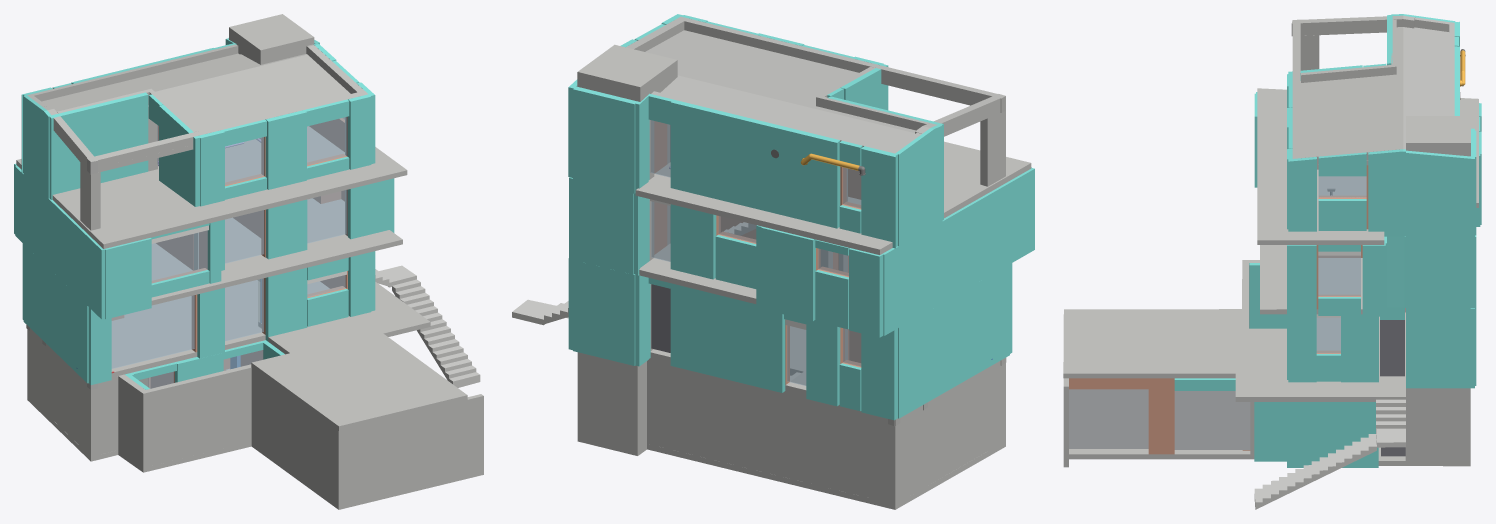
The model's file is HouseEM_AR_ALL.glb.
3 renders of one model, left to right at view 1: azimuth 30°, elevation 25°; view 2: azimuth 150°, elevation 25°; view 3: azimuth 270°, elevation 25°, orthographic. The views are drawn at different scales.
Visible parts, largest first — view 1: AT-SB01, BS-RS01, RF-SLAB, GF-SB01, BS-RCW01, BS-RCW04, F1-SB01, F1-ET06, BS-RCW02, AT-ET07, GF-ET12, GF-EO06 (+44 smaller); view 2: AT-ET11, RF-SLAB, BS-RCW05, F1-ET06, GF-ET12, GF-ET08, AT-SB01, BS-COL07, AT-ET03, GF-ET02, F1-ET14, BS-RCW08 (+45 smaller); view 3: RF-SLAB, BS-RS01, AT-SB01, GF-SB01, AT-ET02, GF-ET01, BS-ET01, BS-COL07, BS-GD02, F1-ET13, BS-GD01, F1-SB01 (+34 smaller).
Boxes of the visible parts, left/top/right/bottom form: AT-SB01: left=16, top=126, right=407, bottom=248; BS-RS01: left=251, top=331, right=467, bottom=430; RF-SLAB: left=42, top=53, right=350, bottom=173; GF-SB01: left=111, top=280, right=430, bottom=377; BS-RCW01: left=336, top=394, right=483, bottom=504; BS-RCW04: left=146, top=364, right=251, bottom=466; F1-SB01: left=151, top=198, right=402, bottom=305; F1-ET06: left=15, top=166, right=105, bottom=319; BS-RCW02: left=251, top=368, right=336, bottom=502; AT-ET07: left=48, top=92, right=148, bottom=199; GF-ET12: left=23, top=244, right=88, bottom=383; GF-EO06: left=111, top=295, right=194, bottom=368; AT-ET11: left=670, top=99, right=840, bottom=228; RF-SLAB: left=645, top=30, right=1000, bottom=149; BS-RCW05: left=649, top=366, right=812, bottom=483; F1-ET06: left=882, top=167, right=1034, bottom=335; GF-ET12: left=899, top=264, right=1009, bottom=418; GF-ET08: left=670, top=283, right=785, bottom=392; AT-SB01: left=635, top=141, right=1031, bottom=254; BS-COL07: left=577, top=352, right=649, bottom=450; AT-ET03: left=573, top=86, right=637, bottom=193; GF-ET02: left=573, top=260, right=634, bottom=365; F1-ET14: left=569, top=177, right=633, bottom=274; BS-RCW08: left=928, top=373, right=987, bottom=484; RF-SLAB: left=1300, top=27, right=1449, bottom=169; BS-RS01: left=1063, top=309, right=1242, bottom=378; AT-SB01: left=1257, top=88, right=1478, bottom=244; GF-SB01: left=1235, top=313, right=1405, bottom=401; AT-ET02: left=1406, top=150, right=1474, bottom=237; GF-ET01: left=1406, top=308, right=1474, bottom=388; BS-ET01: left=1287, top=402, right=1378, bottom=467; BS-COL07: left=1405, top=388, right=1470, bottom=461; BS-GD02: left=1069, top=389, right=1148, bottom=448; F1-ET13: left=1407, top=237, right=1470, bottom=308; BS-GD01: left=1174, top=391, right=1250, bottom=449; F1-SB01: left=1260, top=245, right=1362, bottom=314.
Size of the model in its own units: 16.54 by 13.2 by 15.47.
